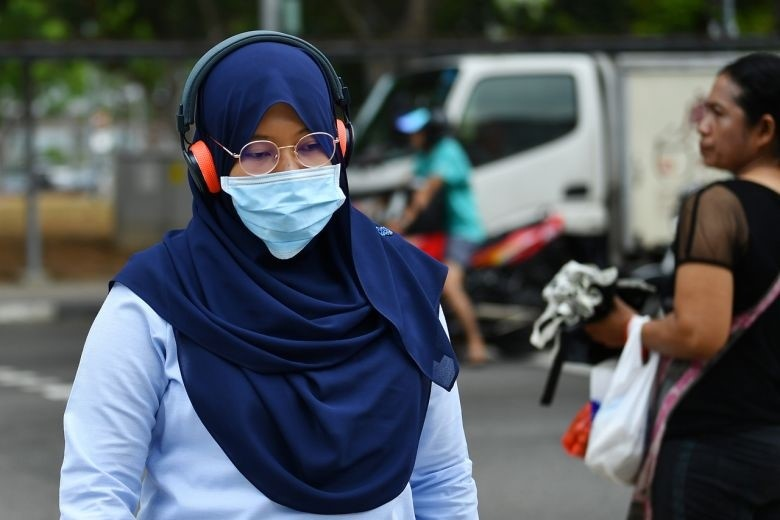face_no_mask: (695, 54, 777, 170)
face_with_mask: (183, 28, 358, 261)
